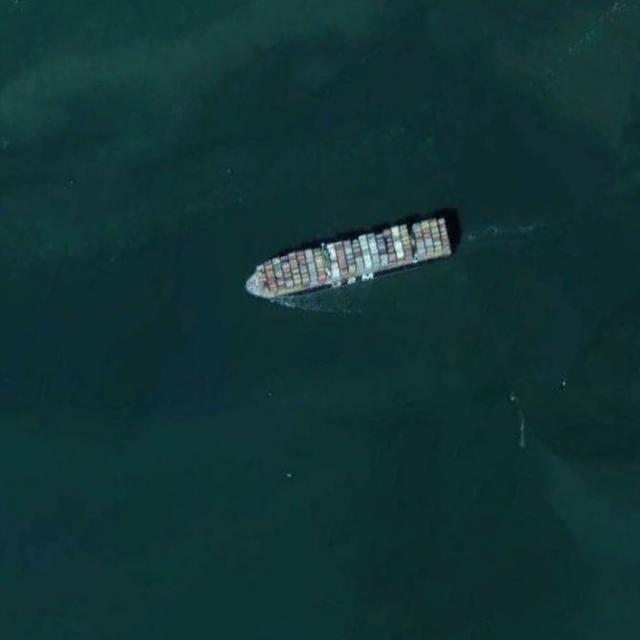ship: (244, 215, 454, 299)
